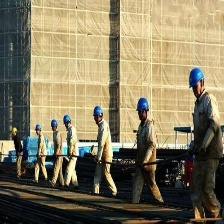helmet: (187, 68, 205, 89), (136, 97, 148, 113), (92, 107, 105, 119), (50, 119, 59, 129), (62, 115, 70, 125), (34, 126, 43, 133), (13, 126, 18, 135)
no-vest: (191, 100, 222, 175), (136, 124, 158, 178), (97, 127, 114, 167), (66, 129, 80, 160), (51, 133, 63, 164), (37, 138, 47, 163), (13, 135, 23, 157)
person: (184, 68, 224, 224), (132, 98, 159, 207), (91, 106, 114, 195), (60, 115, 81, 194), (47, 120, 66, 192), (33, 123, 48, 188), (12, 128, 24, 180)
